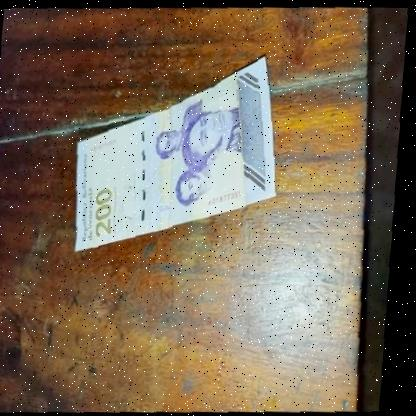two_hundred-front-vef: (70, 50, 291, 256)
